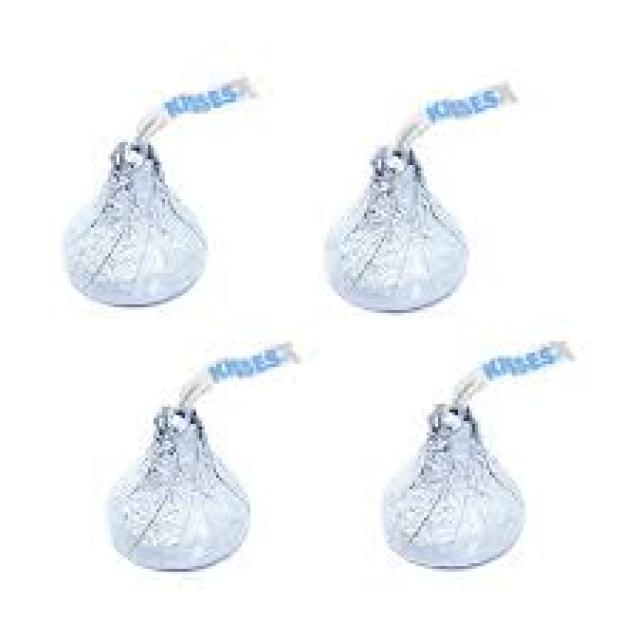kisses: (107, 339, 300, 581), (382, 343, 580, 577), (326, 80, 522, 314), (61, 80, 252, 316)
